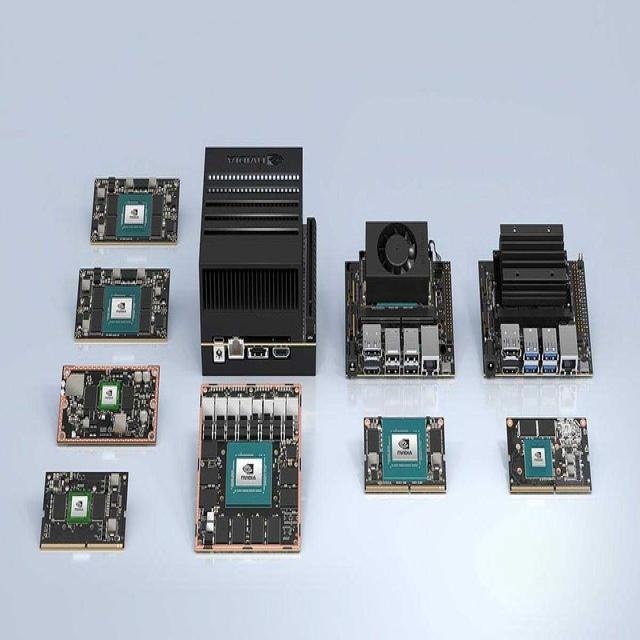Jetson Nano: (479, 224, 597, 377), (346, 222, 455, 378)
